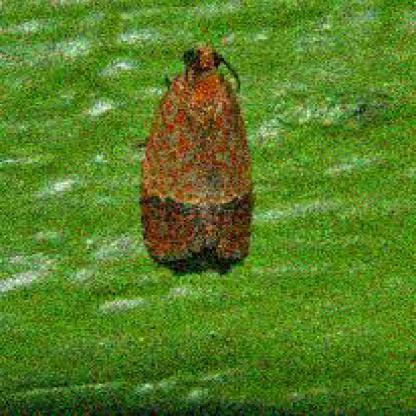Leaf Webber: (130, 41, 259, 262)
